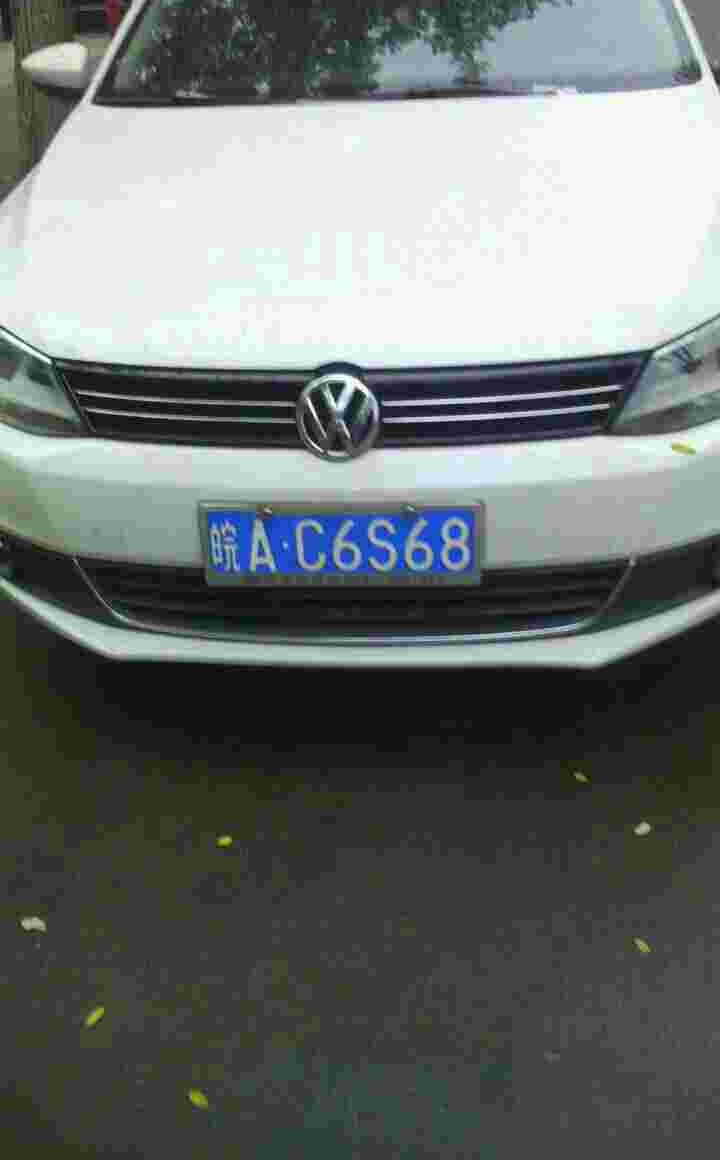plate: (202, 501, 486, 588)
